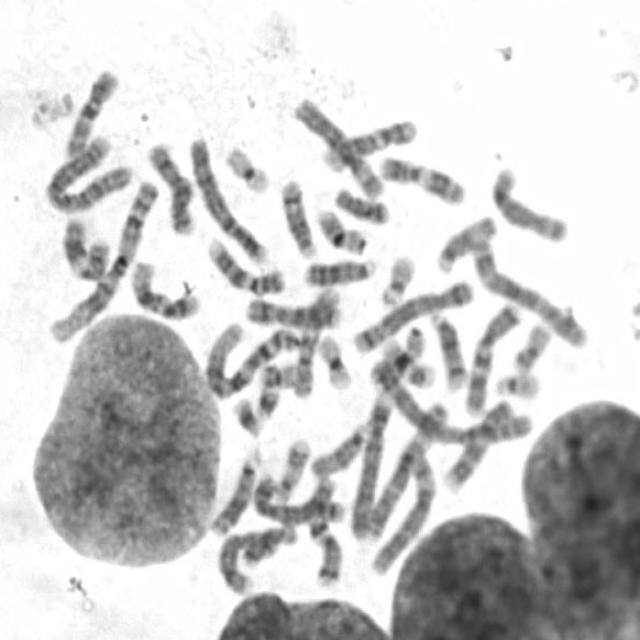A1: (44, 174, 161, 344), (200, 316, 301, 400)
A2: (363, 354, 533, 447), (41, 128, 135, 214)
A3: (466, 232, 592, 350), (358, 395, 450, 542)
B4: (184, 129, 270, 266), (346, 388, 395, 542)
B5: (346, 272, 476, 356), (248, 468, 346, 526)
C10: (290, 281, 342, 400), (59, 63, 121, 160)
C11: (374, 148, 468, 206), (57, 211, 112, 283)
C12: (318, 112, 420, 174), (125, 255, 203, 322)
C6: (290, 91, 386, 201), (365, 447, 440, 577)
C7: (458, 296, 522, 418), (302, 470, 346, 588)
C8: (487, 160, 573, 244), (212, 519, 298, 597)
C9: (438, 392, 519, 494), (201, 230, 287, 297)
D13: (206, 443, 264, 538), (298, 250, 378, 288)
D14: (424, 306, 470, 392), (276, 174, 319, 258)
D15: (430, 208, 499, 274), (307, 416, 374, 480)
E16: (367, 323, 428, 388), (312, 202, 368, 256)
E17: (378, 333, 437, 389), (268, 432, 312, 502)
E18: (238, 517, 298, 569), (328, 180, 392, 227)
F19: (220, 139, 272, 195), (314, 328, 356, 392)
F20: (508, 316, 553, 374), (255, 356, 300, 390)
G21: (228, 392, 266, 438), (250, 379, 282, 421)
G22: (374, 247, 418, 308), (489, 366, 544, 400)
X: (142, 136, 197, 237), (241, 289, 343, 330)
